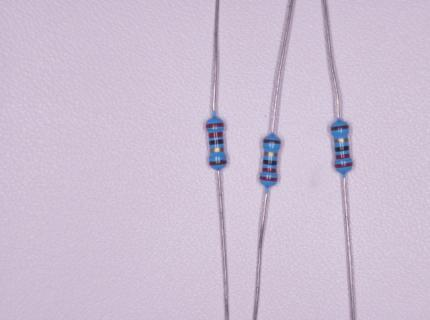Black band: (209, 139, 224, 145), (335, 146, 349, 152), (263, 160, 277, 165)
Brown band: (209, 160, 227, 166), (331, 125, 349, 131), (263, 139, 281, 144)
Gold band: (264, 151, 278, 157), (210, 147, 224, 152), (334, 138, 348, 143)
Red band: (334, 162, 353, 168), (206, 123, 224, 129), (260, 176, 277, 182), (209, 132, 223, 138), (336, 154, 349, 160), (262, 168, 277, 173)
